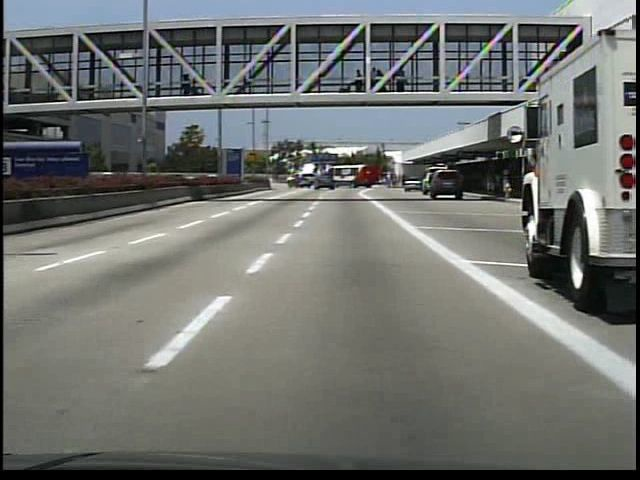person: (178, 71, 194, 98), (484, 171, 497, 199)
